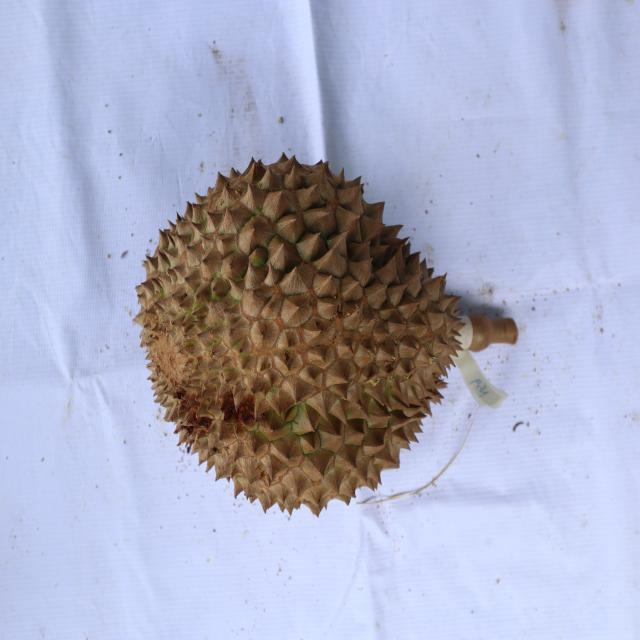mature: (128, 147, 458, 520)
